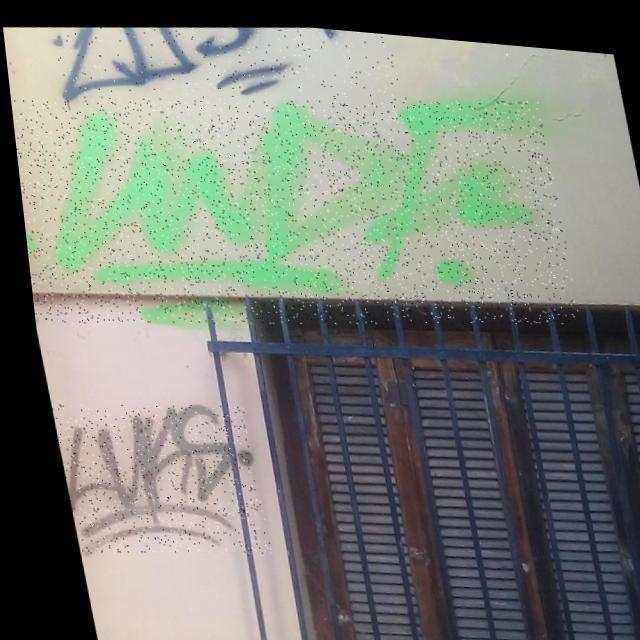-: (4, 54, 580, 362), (46, 3, 407, 122), (40, 388, 260, 566)
